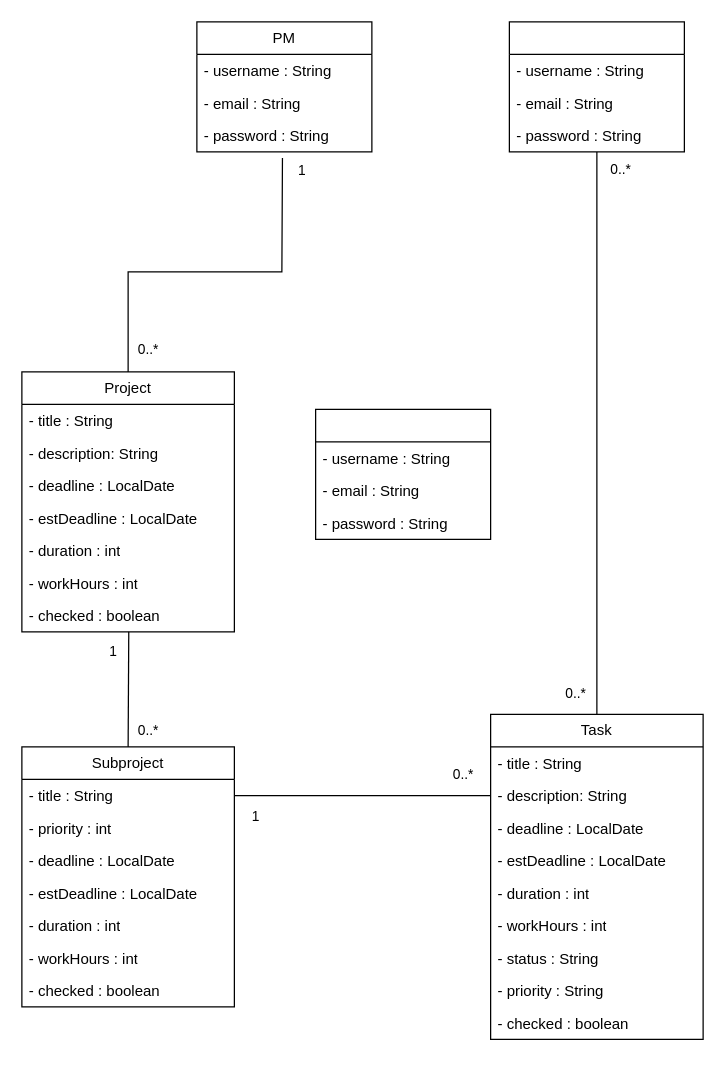
Image size: 725x1065. Some labels were removed from this diagram. The box of each missing label's shape, as (x1, y1, x2, y2) in pixels:
Admin: (314, 408, 491, 539)
Employee: (508, 21, 684, 152)
